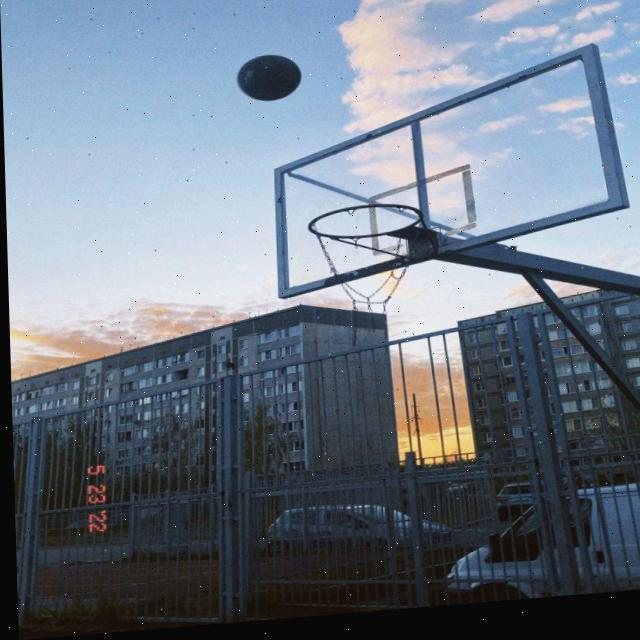hoop: (297, 178, 441, 327)
